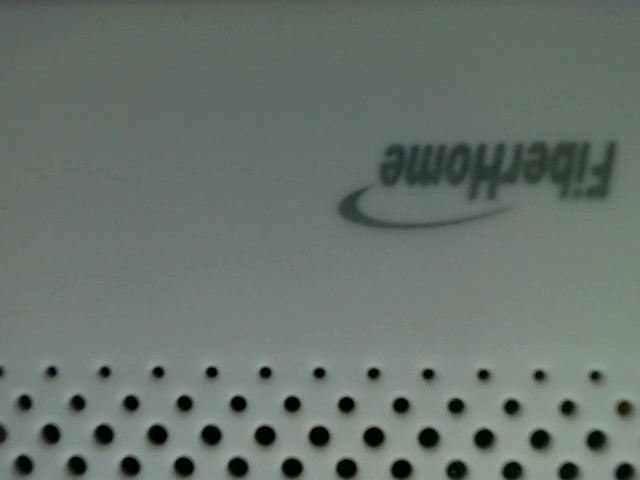AI_FiberHome: (326, 128, 622, 247)
